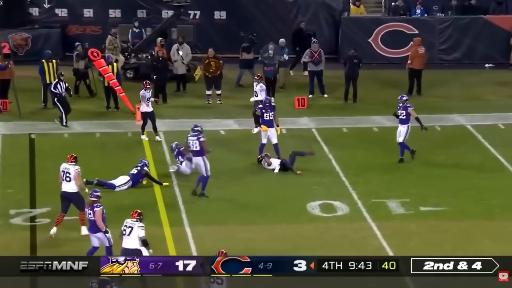Helmet: (131, 210, 142, 222), (89, 190, 101, 200), (171, 142, 181, 153), (191, 124, 202, 134), (262, 97, 272, 108), (67, 154, 77, 164), (398, 95, 408, 104), (138, 159, 149, 166), (255, 74, 263, 82), (217, 250, 227, 256), (143, 81, 150, 89), (257, 156, 263, 163)
Jersey: (122, 219, 145, 249), (86, 203, 105, 234), (60, 163, 80, 192), (128, 166, 149, 186), (257, 104, 275, 127), (187, 134, 205, 157), (139, 89, 153, 112), (398, 104, 413, 125), (262, 158, 282, 173), (254, 83, 266, 106), (90, 278, 117, 287), (174, 148, 186, 164), (210, 277, 227, 287)
Player: (50, 154, 88, 236), (84, 159, 168, 190), (393, 95, 427, 163), (185, 125, 210, 197), (86, 190, 113, 256), (253, 98, 280, 158), (121, 210, 152, 256), (140, 81, 161, 141), (258, 152, 314, 174), (250, 75, 267, 127), (171, 143, 193, 174), (90, 277, 118, 287), (210, 277, 227, 287)
